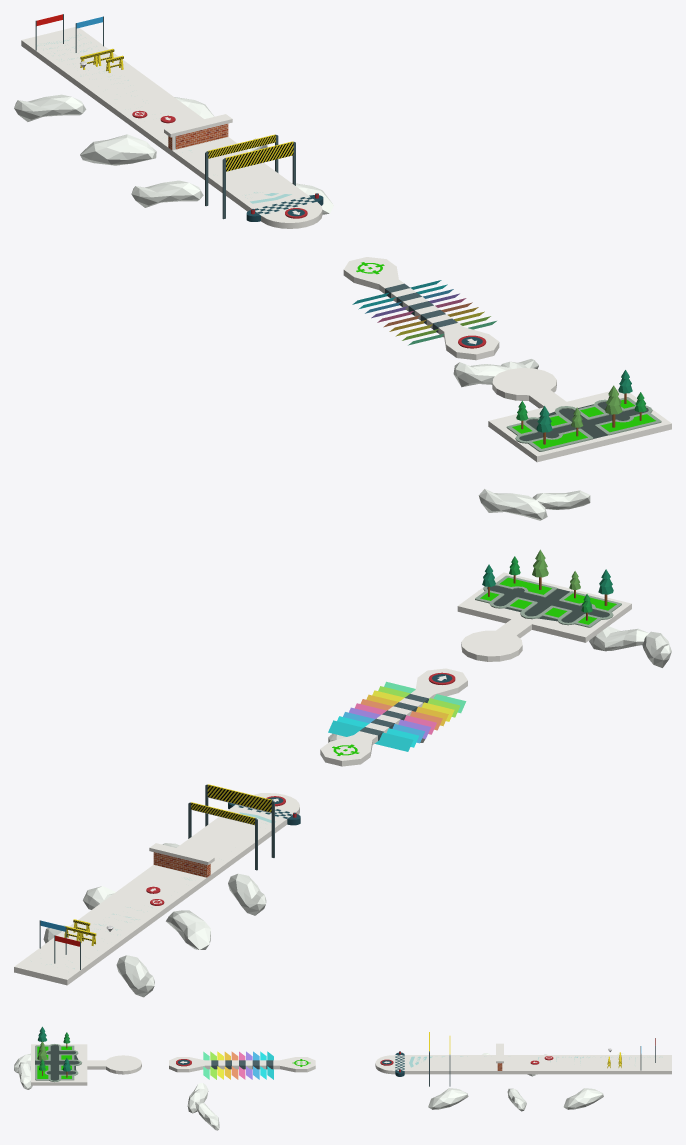
The model's file is Tall_Man_Run_2.fbx.
3 views of the same model, one above another, from view 1: azimuth 30°, elevation 25°; view 2: azimuth 150°, elevation 25°; view 3: azimuth 270°, elevation 25° (orthographic). The views are drawn at different scales.
Visible parts, largest first — view 1: Platform_1, Platform_3, Platform_2, Cloud_2, Cube.002, Cloud_5, Cloud_3, Barrier_5, Barrier_4, Cloud_4, Barrier_3; view 2: Platform_1, Platform_3, Cube.002, Platform_2, Cloud_2, Cloud_5, Barrier_5, Barrier_4, Cloud_3, Barrier_3; view 3: Platform_1, Platform_3, Platform_2, Cube.002, Cloud_2, Cloud_4, Cloud_3, Cloud_5, Barrier_5.
Part boxes in pixels (x1,y1,x2,y2): Platform_1: [21, 27, 323, 228]; Platform_3: [488, 368, 671, 462]; Platform_2: [343, 257, 499, 360]; Cloud_2: [14, 94, 267, 165]; Cube.002: [352, 280, 496, 345]; Cloud_5: [478, 489, 590, 520]; Cloud_3: [131, 180, 333, 214]; Barrier_5: [164, 114, 232, 150]; Barrier_4: [222, 141, 295, 219]; Cloud_4: [453, 359, 538, 387]; Barrier_3: [205, 134, 278, 206]; Platform_1: [14, 793, 300, 985]; Platform_3: [457, 549, 631, 661]; Cube.002: [328, 681, 466, 751]; Platform_2: [320, 668, 467, 766]; Cloud_2: [43, 886, 210, 997]; Cloud_5: [589, 626, 671, 667]; Barrier_5: [149, 843, 214, 877]; Barrier_4: [205, 784, 274, 857]; Cloud_3: [162, 843, 266, 915]; Barrier_3: [188, 802, 257, 870]; Platform_1: [375, 1051, 671, 1076]; Platform_3: [31, 1026, 141, 1085]; Platform_2: [169, 1057, 315, 1072]; Cube.002: [203, 1051, 273, 1079]; Cloud_2: [507, 1053, 625, 1111]; Cloud_4: [187, 1083, 219, 1130]; Cloud_3: [428, 1053, 489, 1109]; Cloud_5: [14, 1053, 32, 1089]; Barrier_5: [496, 1043, 503, 1070].
Size of the model in its own units: 7.44 by 4.01 by 35.09.
Materials: 1 (1 with a texture image).
